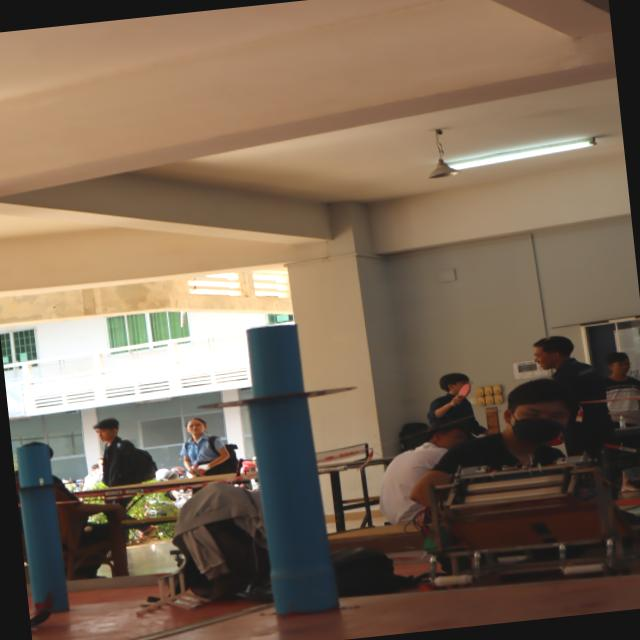pole: (176, 310, 376, 474), (14, 441, 70, 524)
